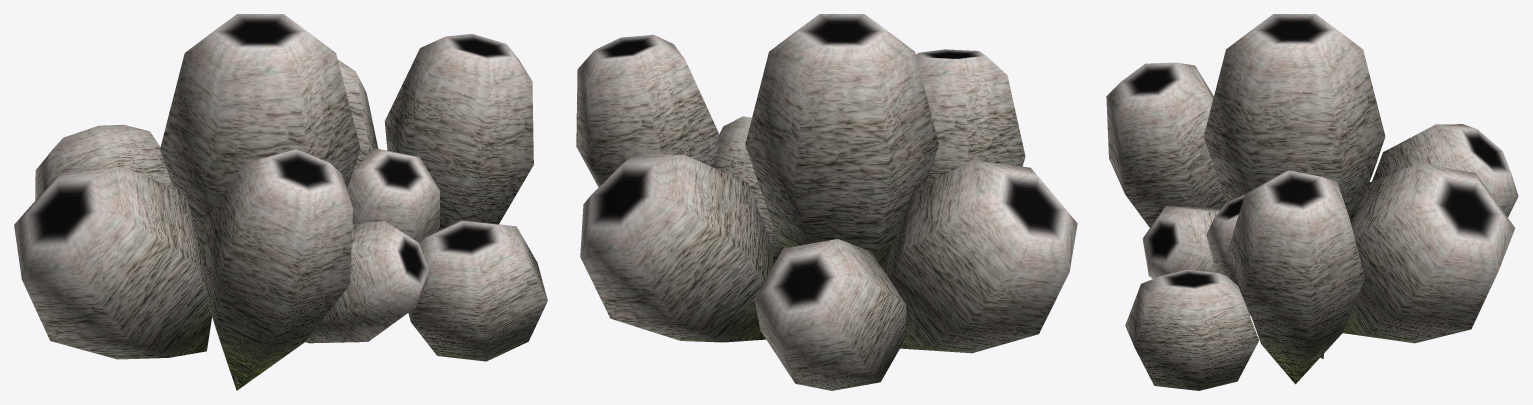
The model's file is FingerSponge03-transformed.glb.
3 renders of one model, left to right at view 1: azimuth 30°, elevation 25°; view 2: azimuth 150°, elevation 25°; view 3: azimuth 270°, elevation 25°, orthographic. The views are drawn at different scales.
Visible parts, largest first — view 1: FingerSponge03; view 2: FingerSponge03; view 3: FingerSponge03.
Boxes of the visible parts, x1,y1,x2,y2 form: FingerSponge03: [14, 14, 547, 390]; FingerSponge03: [576, 14, 1077, 390]; FingerSponge03: [1106, 14, 1518, 390].
Size of the model in its own units: 1.49 by 0.8858 by 1.17.
Materials: 1 (1 with a texture image).
